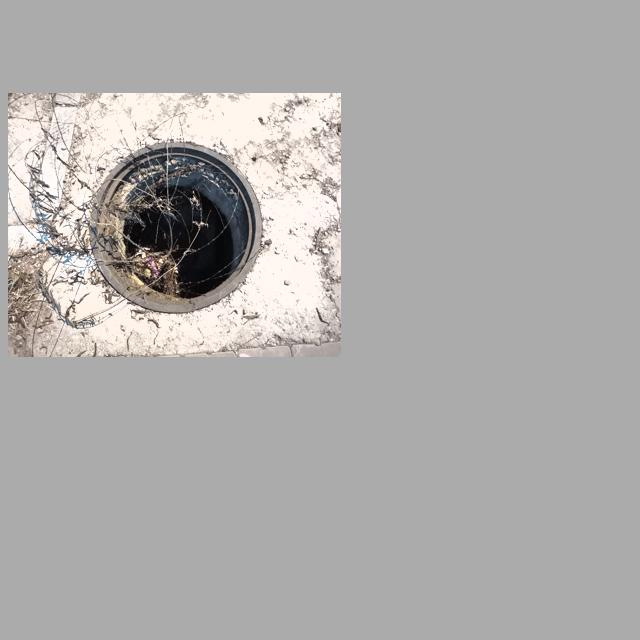lose: (83, 139, 268, 309)
